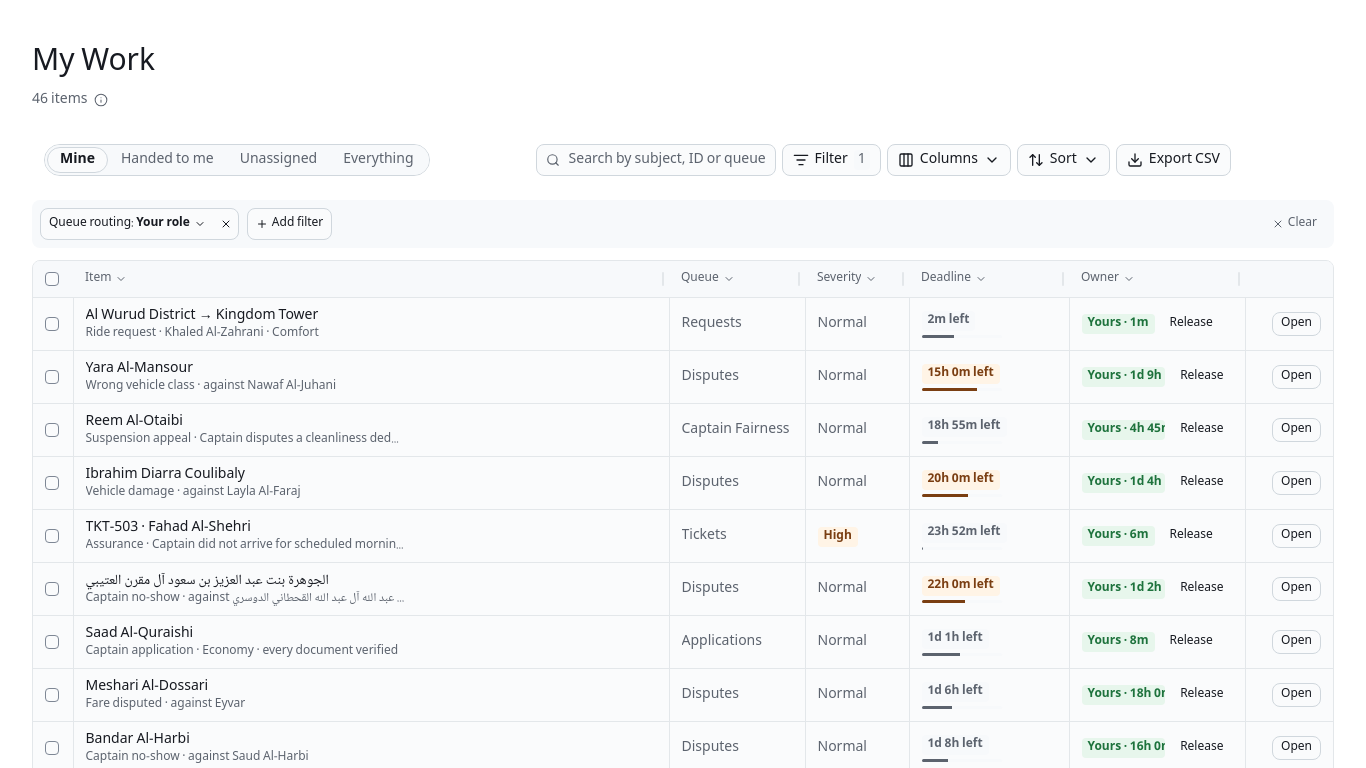
Test: X15 — the surprising count explains itself, when asked › opens one sentence from a named button beside the line
Hover over the button named "What this means" at {"x": 102, "y": 100}, box left=90, top=88, right=114, bottom=112
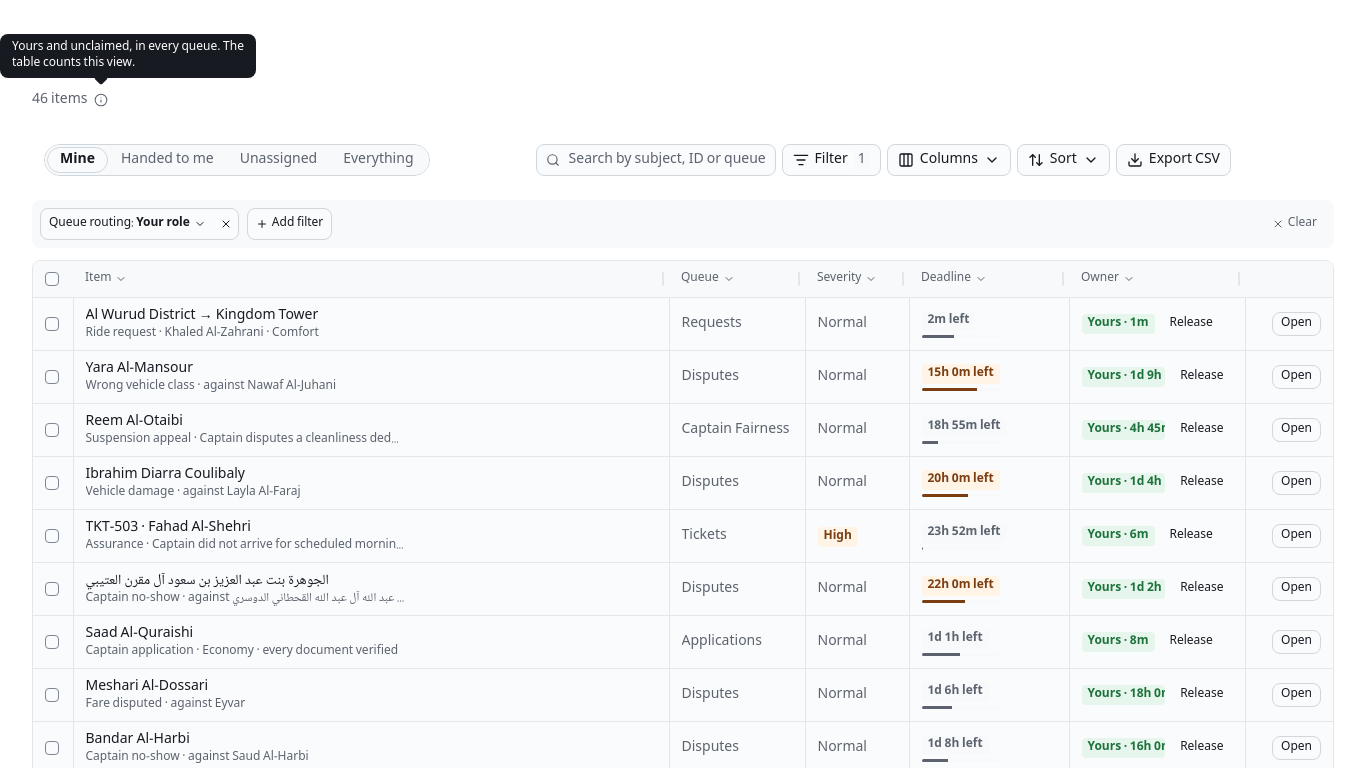
Expected: the tooltip reads "Yours and unclaimed, in every queue. The table counts this view.", left=12, top=37, right=244, bottom=74
